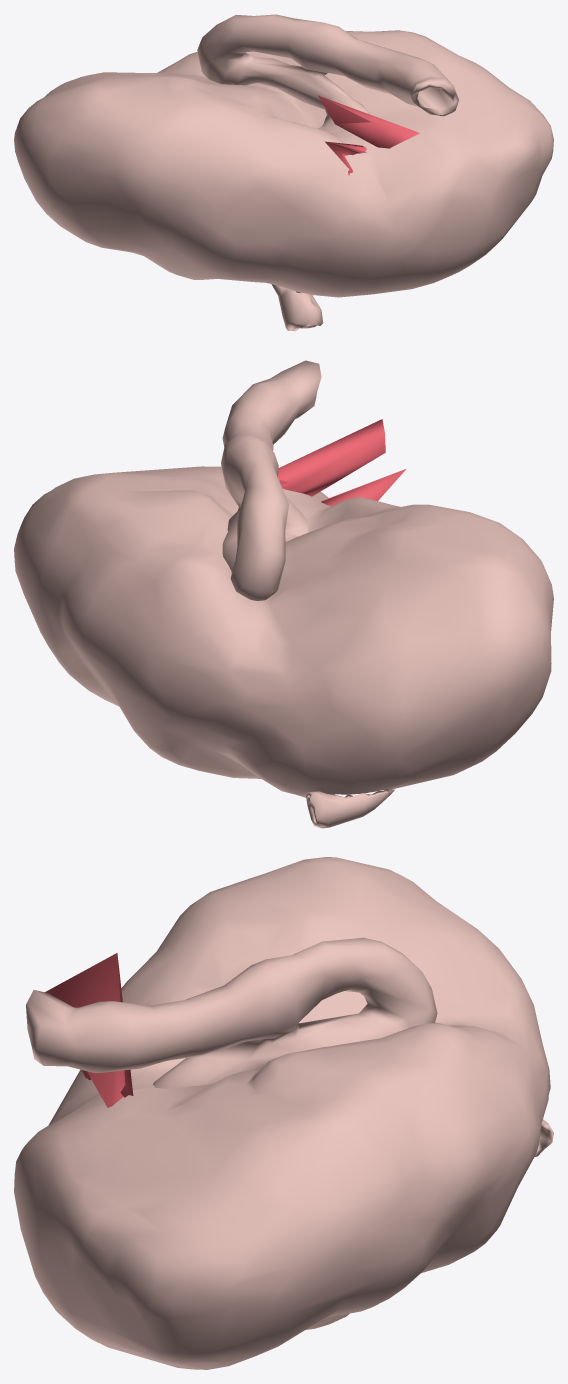
The model's file is NIH_M_Lymph_Node.glb.
The picture shows the model from 3 angles, top to bottom: view 1: azimuth 30°, elevation 25°; view 2: azimuth 150°, elevation 25°; view 3: azimuth 270°, elevation 25°; orthographic projection. The views are drawn at different scales.
Visible parts, largest first — view 1: Yao_capsule_of_lymph_node, Yao_efferent_lymph_node, Yao_blood_vasculature, Yao_afferent_lymphatic_vessel; view 2: Yao_capsule_of_lymph_node, Yao_efferent_lymph_node, Yao_blood_vasculature, Yao_afferent_lymphatic_vessel; view 3: Yao_capsule_of_lymph_node, Yao_efferent_lymph_node, Yao_blood_vasculature.
Part boxes in pixels (x1,y1,x2,y2): Yao_capsule_of_lymph_node: (14,30,553,297); Yao_efferent_lymph_node: (197,14,458,132); Yao_blood_vasculature: (318,95,419,175); Yao_afferent_lymphatic_vessel: (271,284,322,331); Yao_capsule_of_lymph_node: (14,466,553,797); Yao_efferent_lymph_node: (221,360,321,600); Yao_blood_vasculature: (278,419,405,505); Yao_afferent_lymphatic_vessel: (306,788,395,828); Yao_capsule_of_lymph_node: (14,857,550,1369); Yao_efferent_lymph_node: (26,937,437,1088); Yao_blood_vasculature: (45,953,133,1107).
Size of the model in its own units: 0.0183 by 0.0107 by 0.013.
